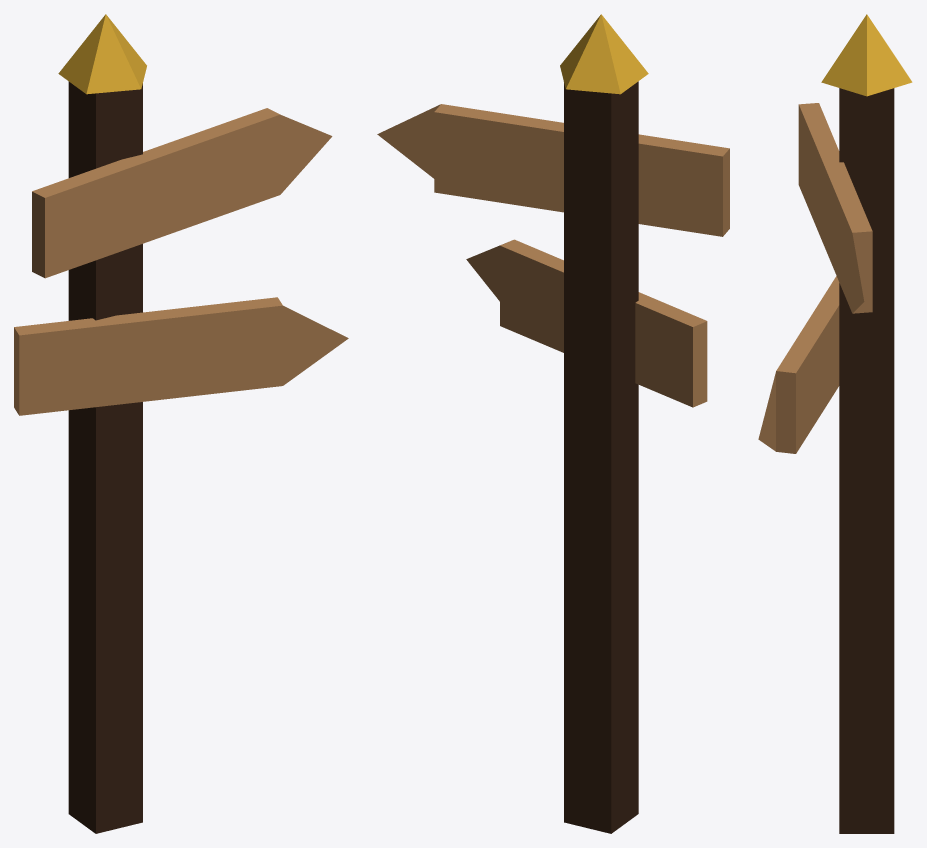
File: signpost.fbx
3 views of the same model, side by side, from view 1: azimuth 30°, elevation 25°; view 2: azimuth 150°, elevation 25°; view 3: azimuth 270°, elevation 25° (orthographic).
Visible parts, largest first — view 1: signpost; view 2: signpost; view 3: signpost.
Boxes of the visible parts, left/top/right/bottom form: signpost: left=14, top=14, right=348, bottom=833; signpost: left=377, top=14, right=729, bottom=833; signpost: left=758, top=14, right=912, bottom=833.
Bounding box in the file's own units: 1.09 × 2.6 × 0.4496.
